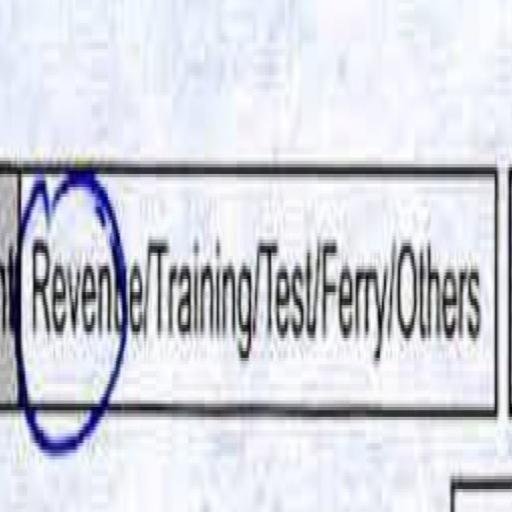check: (6, 118, 130, 488)
